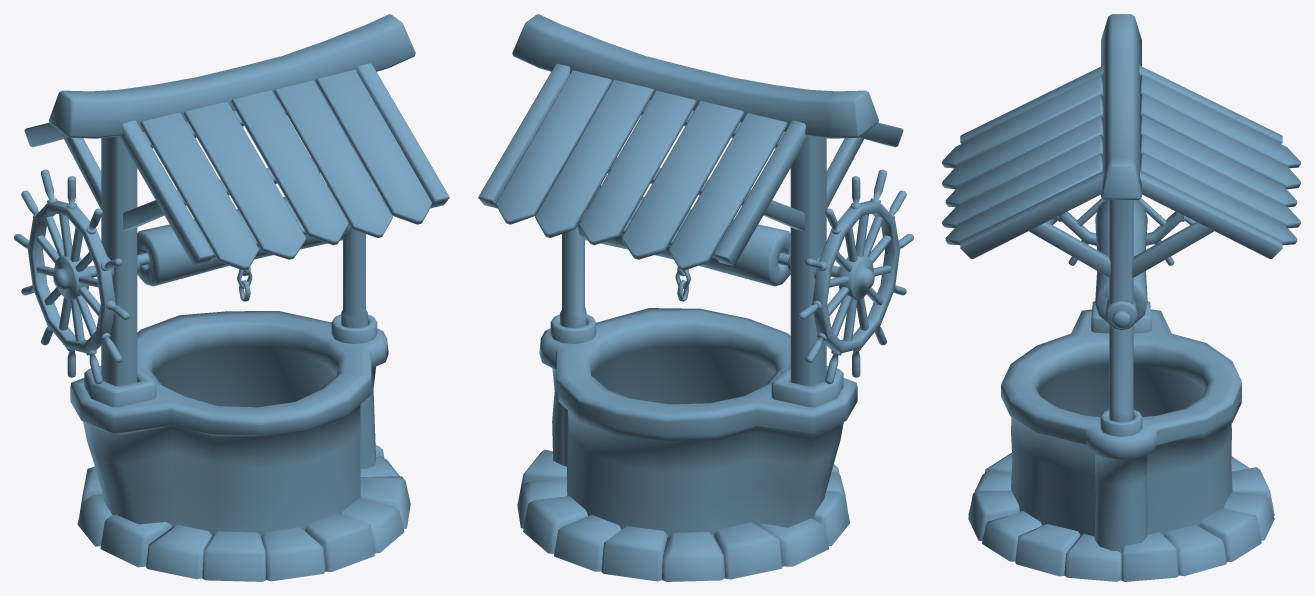
Rendered from well_02.fbx.
The picture shows the model from 3 angles, left to right: view 1: azimuth 30°, elevation 25°; view 2: azimuth 150°, elevation 25°; view 3: azimuth 270°, elevation 25°; orthographic projection. The views are drawn at different scales.
Visible parts, largest first — view 1: Well_FW1_low; view 2: Well_FW1_low; view 3: Well_FW1_low.
Part boxes in pixels (box(x1,y1,x2,y2)): Well_FW1_low: box(14, 14, 449, 581); Well_FW1_low: box(478, 14, 913, 581); Well_FW1_low: box(942, 14, 1300, 581).
Bounding box in the file's own units: 249 × 313 × 240.
